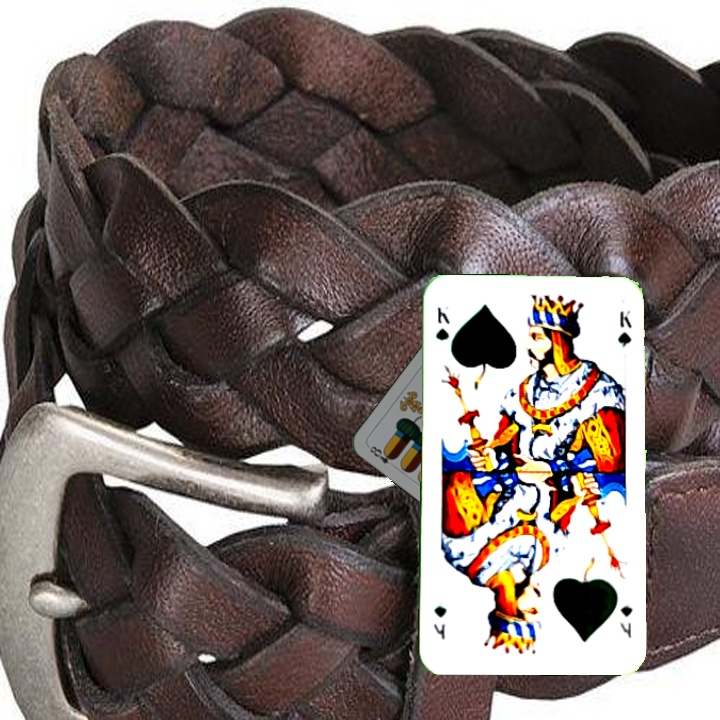E8: (364, 441, 398, 467)
GK: (432, 303, 452, 343), (616, 602, 635, 641)
